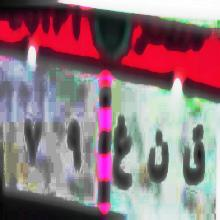7: (25, 116, 42, 169)
9: (67, 114, 84, 175)
ghayn: (112, 110, 132, 194)
noon: (146, 123, 168, 185)
qaaf: (180, 117, 206, 189)
